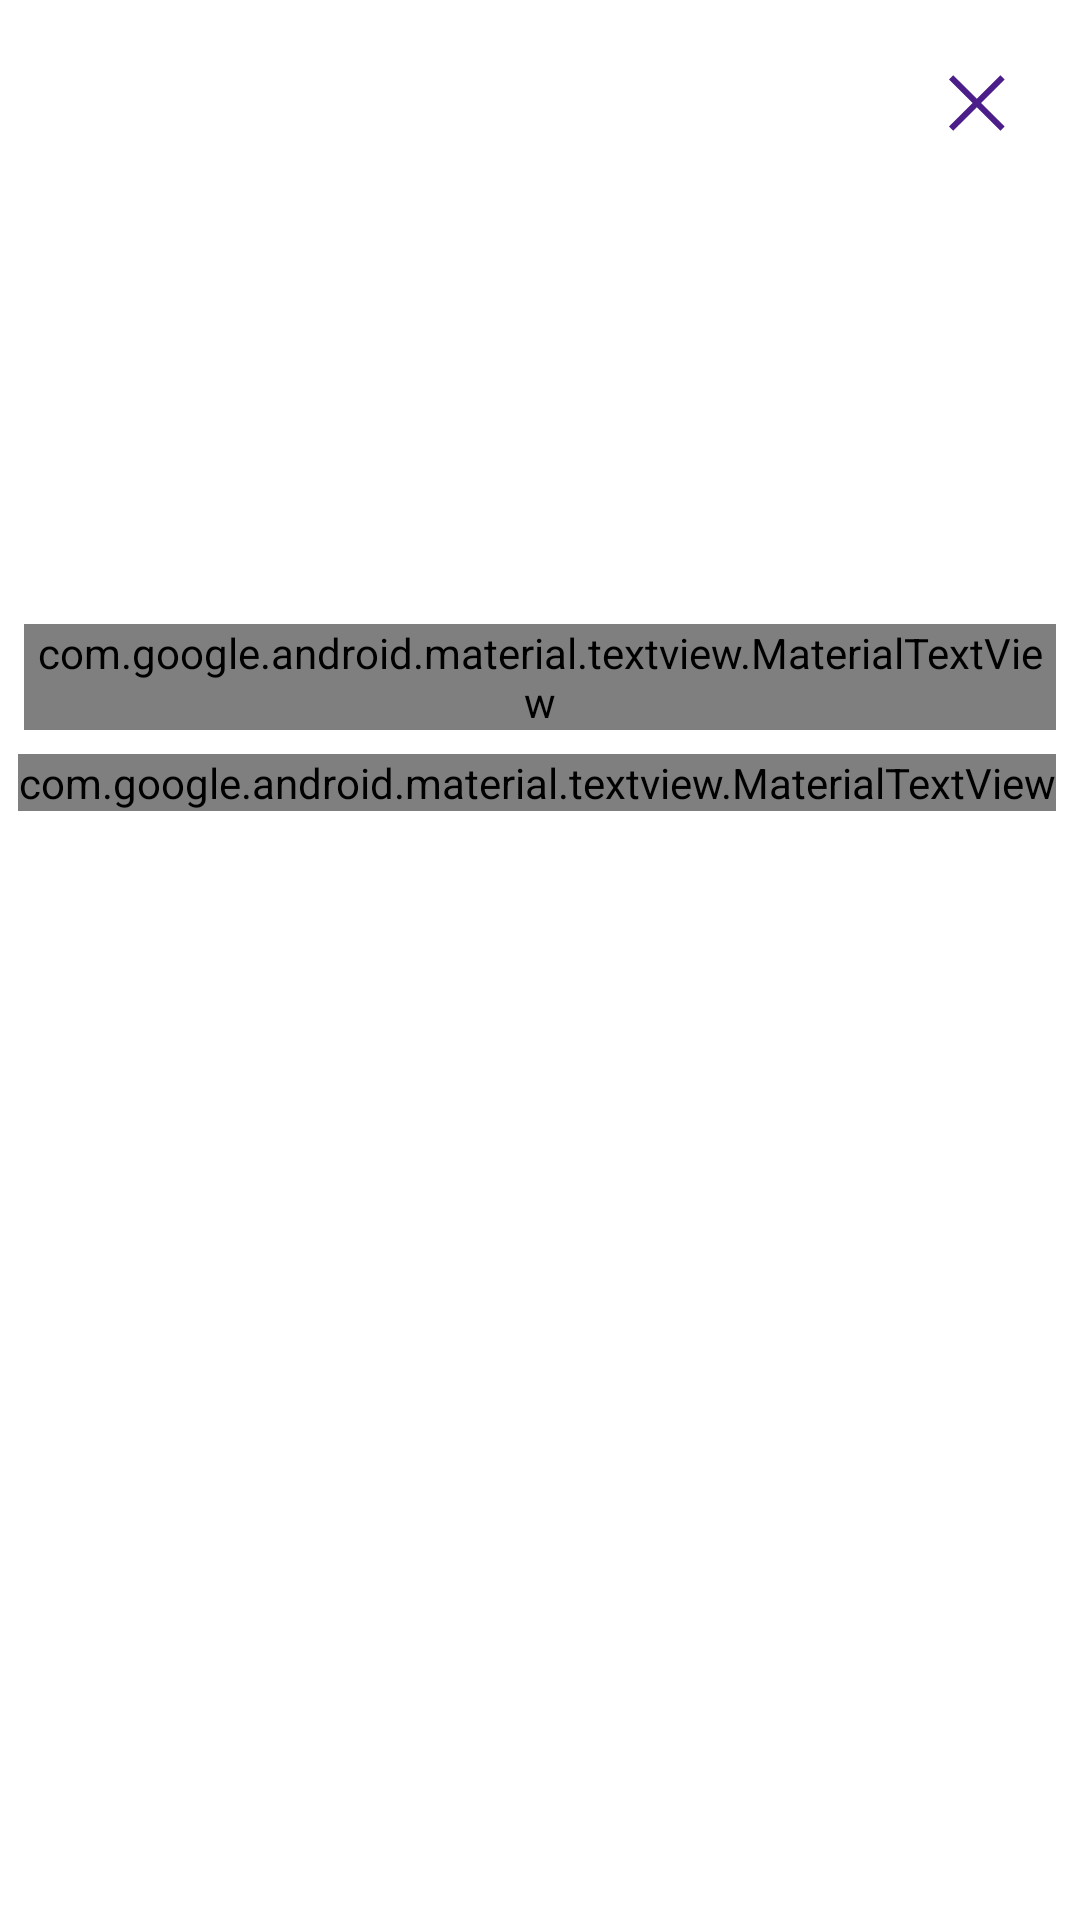

Screen size 1080px×1920px. Icon name, then its center in pixels as (x=x, y=y):
cancel oval: (x=977, y=103)
